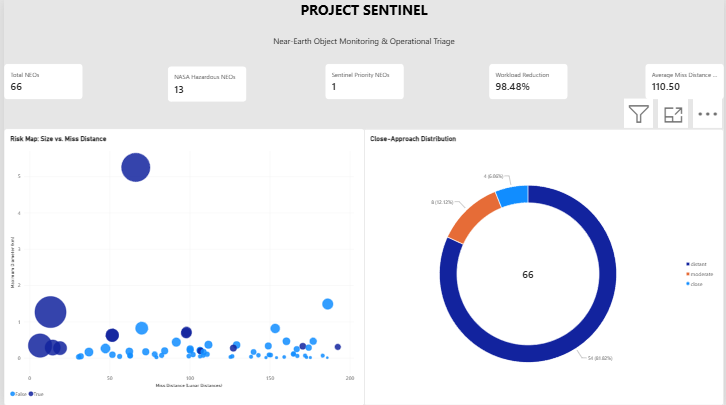

The dashboard page shown, as its layout file describes it:
{"tool":"powerbi","page":{"name":"Executive Overview","canvas":[1920,1080],"ordinal":0},"visuals":[{"type":"cardVisual","fields":{"Data":["clean_data.Total NEOs"]},"box":[0,170,210,95],"z":0},{"type":"cardVisual","fields":{"Data":["clean_data.NASA Hazardous NEOs"]},"box":[435.5,177.4,210,95],"z":1},{"type":"cardVisual","fields":{"Data":["clean_data.Workload Reduction"]},"box":[1293.5,171,210,95],"z":2},{"type":"cardVisual","fields":{"Data":["clean_data.Average Miss Distance (LD)"]},"box":[1709.7,171,210,95],"z":3},{"type":"cardVisual","fields":{"Data":["clean_data.Sentinel Priority NEOs"]},"box":[855,170,210,95],"z":4},{"type":"scatterChart","title":"Risk Map: Size vs. Miss Distance","fields":{"Series":["clean_data.is_potentially_hazardous_asteroid"],"Size":["Sum(clean_data.scaled_size_to_distance_ratio)"],"X":["clean_data.miss_distance_lunar"],"Y":["Sum(clean_data.max_diameter_km)"]},"box":[0,341.9,961.3,738.7],"z":6},{"type":"donutChart","title":"Close-Approach Distribution","fields":{"Category":["clean_data.approach_category"],"Y":["clean_data.Total NEOs"]},"box":[961.3,341.9,958.1,738.7],"z":7},{"type":"textbox","box":[0,0,1920,66.7],"z":8},{"type":"textbox","box":[0,93.3,1920,46.7],"z":9}]}

Visuals, with their boxes in screenshot pixels (x1, y1, x2, y2), scaled from the page's 1920x1080 canvas onto the 726x405 screenshot:
cardVisual - clean_data.Total NEOs: {"left": 0, "top": 64, "right": 79, "bottom": 99}
cardVisual - clean_data.NASA Hazardous NEOs: {"left": 165, "top": 67, "right": 244, "bottom": 102}
cardVisual - clean_data.Workload Reduction: {"left": 489, "top": 64, "right": 569, "bottom": 100}
cardVisual - clean_data.Average Miss Distance (LD): {"left": 646, "top": 64, "right": 725, "bottom": 100}
cardVisual - clean_data.Sentinel Priority NEOs: {"left": 323, "top": 64, "right": 403, "bottom": 99}
"Risk Map: Size vs. Miss Distance" scatterChart: {"left": 0, "top": 128, "right": 363, "bottom": 404}
"Close-Approach Distribution" donutChart: {"left": 363, "top": 128, "right": 725, "bottom": 404}
textbox: {"left": 0, "top": 0, "right": 725, "bottom": 25}
textbox: {"left": 0, "top": 35, "right": 725, "bottom": 52}
